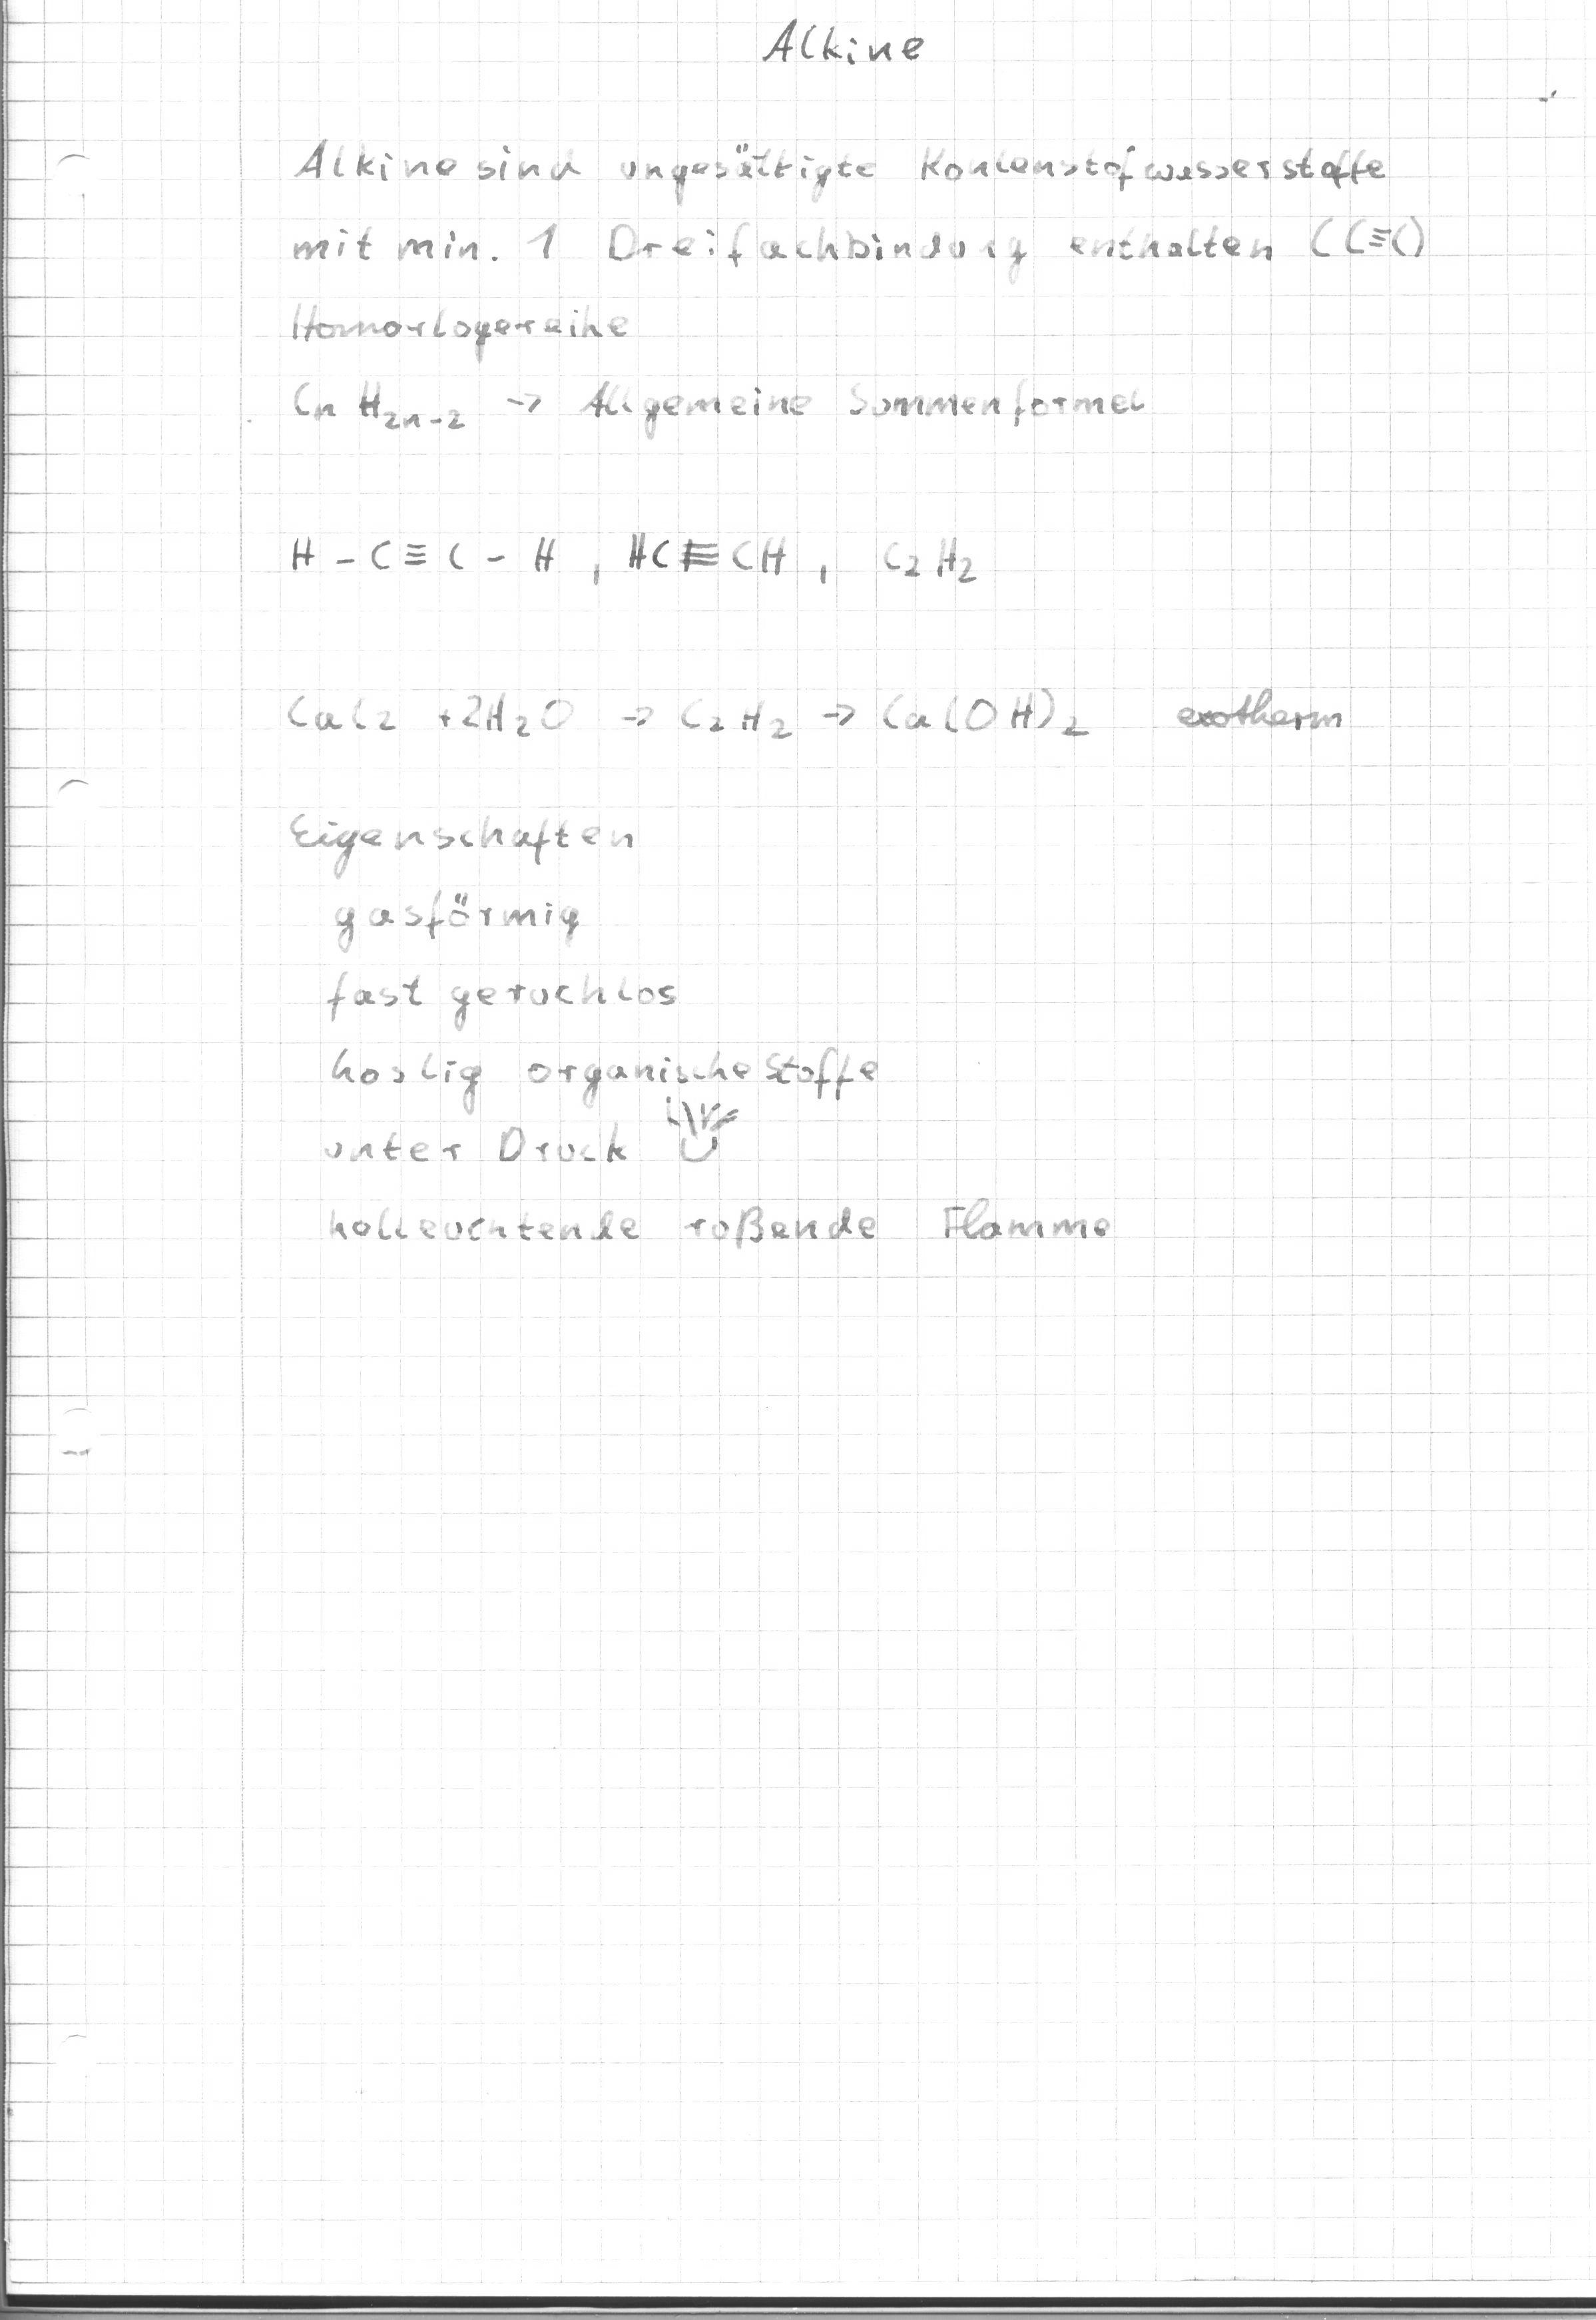word: (270, 798, 1160, 1283), (256, 121, 1453, 471), (261, 536, 1383, 804)
